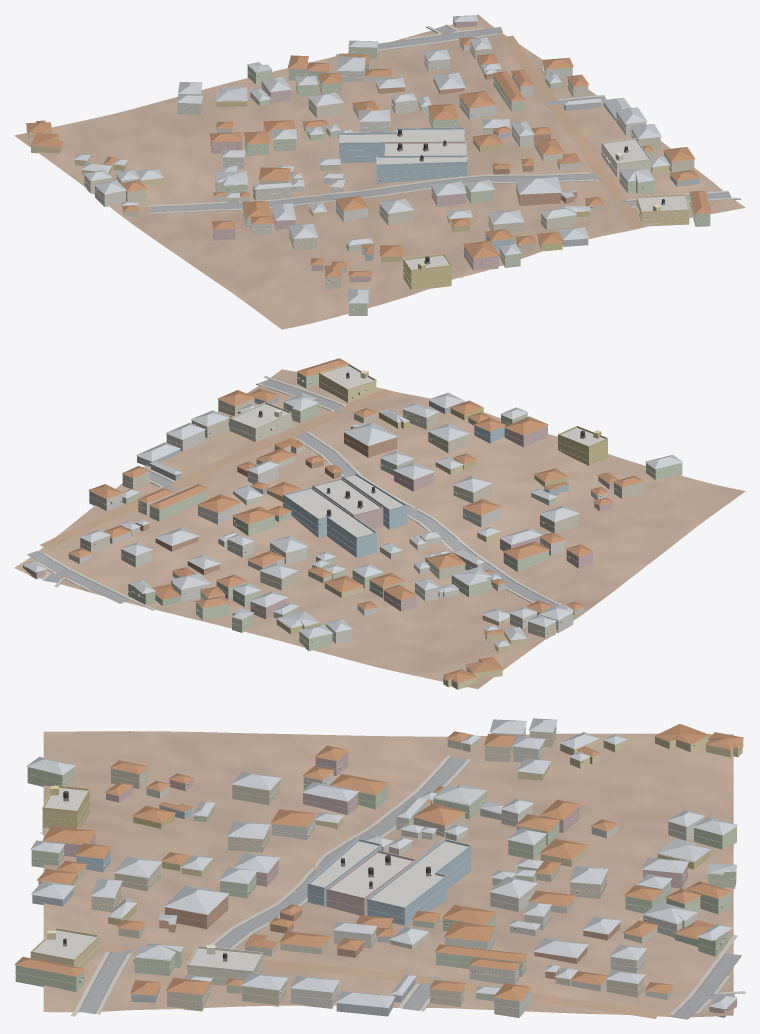
3 views of the same model, one above another, from view 1: azimuth 30°, elevation 25°; view 2: azimuth 150°, elevation 25°; view 3: azimuth 270°, elevation 25° (orthographic). The views are drawn at different scales.
Parts seen in each view (by area): view 1: Terrain-col, Buildings-col, Roads-col, Details, Sidewalks-col; view 2: Terrain-col, Buildings-col, Roads-col, Details, Sidewalks-col; view 3: Buildings-col, Terrain-col, Roads-col, Details, Sidewalks-col.
Part boxes in pixels (x1,y1,x2,y2): Terrain-col: [14, 14, 745, 329]; Buildings-col: [26, 15, 711, 315]; Roads-col: [150, 25, 731, 228]; Details: [31, 44, 710, 309]; Sidewalks-col: [147, 24, 740, 277]; Terrain-col: [14, 369, 745, 688]; Buildings-col: [22, 358, 683, 689]; Roads-col: [27, 379, 558, 605]; Details: [24, 363, 682, 680]; Sidewalks-col: [36, 376, 562, 610]; Buildings-col: [14, 718, 743, 1017]; Terrain-col: [43, 731, 733, 1017]; Roads-col: [79, 757, 741, 1019]; Details: [15, 728, 740, 1010]; Sidewalks-col: [40, 755, 745, 1016].
Size of the model in its own units: 265 by 19.99 by 272.
